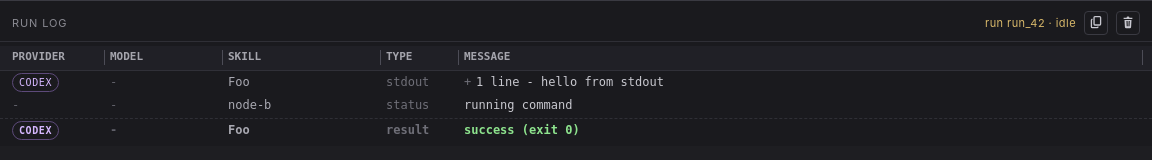
Scenario: Layout shell › LogPanel copies the visible run log and node results
The image size is (1152, 160).
Click the button with test id "run-log-copy".
click(1096, 23)  # box [1084,11,1108,35]
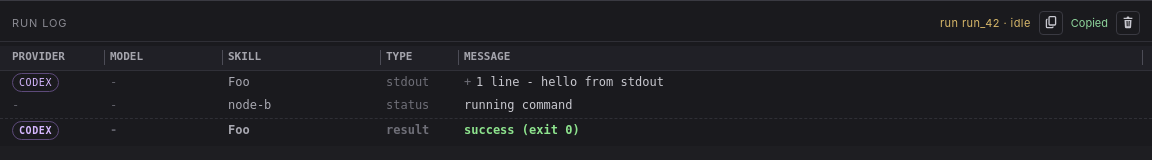
Check: the message with test id "run-log-copy-feedback" reads "Copied", box [1071,16,1108,30]
